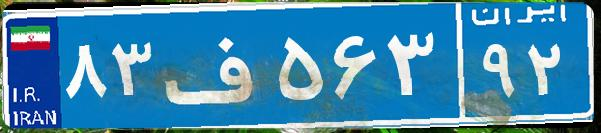2: (525, 38, 570, 115)
3: (385, 28, 445, 110), (110, 28, 158, 105)
5: (273, 28, 330, 110)
6: (330, 28, 385, 110)
8: (57, 26, 110, 107)
9: (475, 38, 525, 113)
ف: (158, 15, 273, 115)
